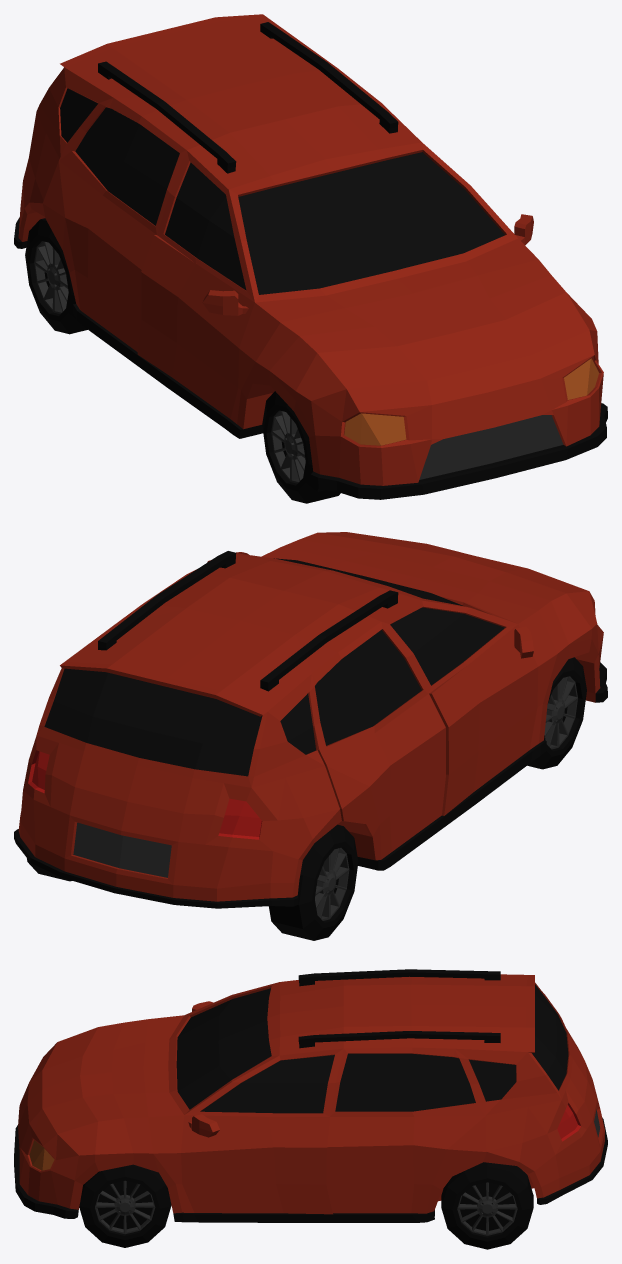
Rendered from Copper.obj.
The picture shows the model from 3 angles, top to bottom: view 1: azimuth 30°, elevation 25°; view 2: azimuth 150°, elevation 25°; view 3: azimuth 270°, elevation 25°; orthographic projection. The views are drawn at different scales.
Parts seen in each view (by area): view 1: SUV_Cube_body, SUV_Cube_Windows, SUV_Cube_Black, SUV_Cube_Grey, SUV_Cube_Headlights, SUV_FrontRightWheel_Cylinder.005_Black, SUV_BackWheels_Cylinder.009_Black, SUV_FrontRightWheel_Cylinder.005_Grey, SUV_BackWheels_Cylinder.009_Grey; view 2: SUV_Cube_body, SUV_Cube_Windows, SUV_Cube_Black, SUV_BackWheels_Cylinder.009_Black, SUV_Cube_Grey, SUV_Cube_TailLights, SUV_FrontRightWheel_Cylinder.005_Black, SUV_BackWheels_Cylinder.009_Grey, SUV_FrontRightWheel_Cylinder.005_Grey; view 3: SUV_Cube_body, SUV_Cube_Windows, SUV_Cube_Black, SUV_BackWheels_Cylinder.009_Black, SUV_FrontLeftWheel_Cylinder.010_Black, SUV_FrontLeftWheel_Cylinder.010_Grey, SUV_BackWheels_Cylinder.009_Grey, SUV_Cube_TailLights, SUV_Cube_Headlights.
Boxes of the visible parts, x1,y1,x2,y2 form: SUV_Cube_body: (18,14,603,485); SUV_Cube_Windows: (60,88,504,294); SUV_Cube_Black: (14,22,607,499); SUV_Cube_Grey: (419,415,563,479); SUV_Cube_Headlights: (344,358,598,445); SUV_FrontRightWheel_Cylinder.005_Black: (262,391,340,503); SUV_BackWheels_Cylinder.009_Black: (25,218,87,334); SUV_FrontRightWheel_Cylinder.005_Grey: (271,410,305,483); SUV_BackWheels_Cylinder.009_Grey: (34,241,68,314); SUV_Cube_body: (18,532,603,901); SUV_Cube_Windows: (44,558,504,776); SUV_Cube_Black: (14,551,607,908); SUV_BackWheels_Cylinder.009_Black: (27,824,358,940); SUV_Cube_Grey: (73,822,171,877); SUV_Cube_TailLights: (28,750,262,839); SUV_FrontRightWheel_Cylinder.005_Black: (527,657,586,769); SUV_BackWheels_Cylinder.009_Grey: (315,848,349,920); SUV_FrontRightWheel_Cylinder.005_Grey: (544,676,577,749); SUV_Cube_body: (18,974,604,1214); SUV_Cube_Windows: (176,984,568,1113); SUV_Cube_Black: (14,969,607,1222); SUV_BackWheels_Cylinder.009_Black: (441,1162,533,1249); SUV_FrontLeftWheel_Cylinder.010_Black: (79,1164,171,1247); SUV_FrontLeftWheel_Cylinder.010_Grey: (95,1180,155,1234); SUV_BackWheels_Cylinder.009_Grey: (457,1182,517,1235); SUV_Cube_TailLights: (557,1103,581,1141); SUV_Cube_Headlights: (29,1140,54,1170).
Bounding box in the file's own units: 2.11 × 1.53 × 4.21.
